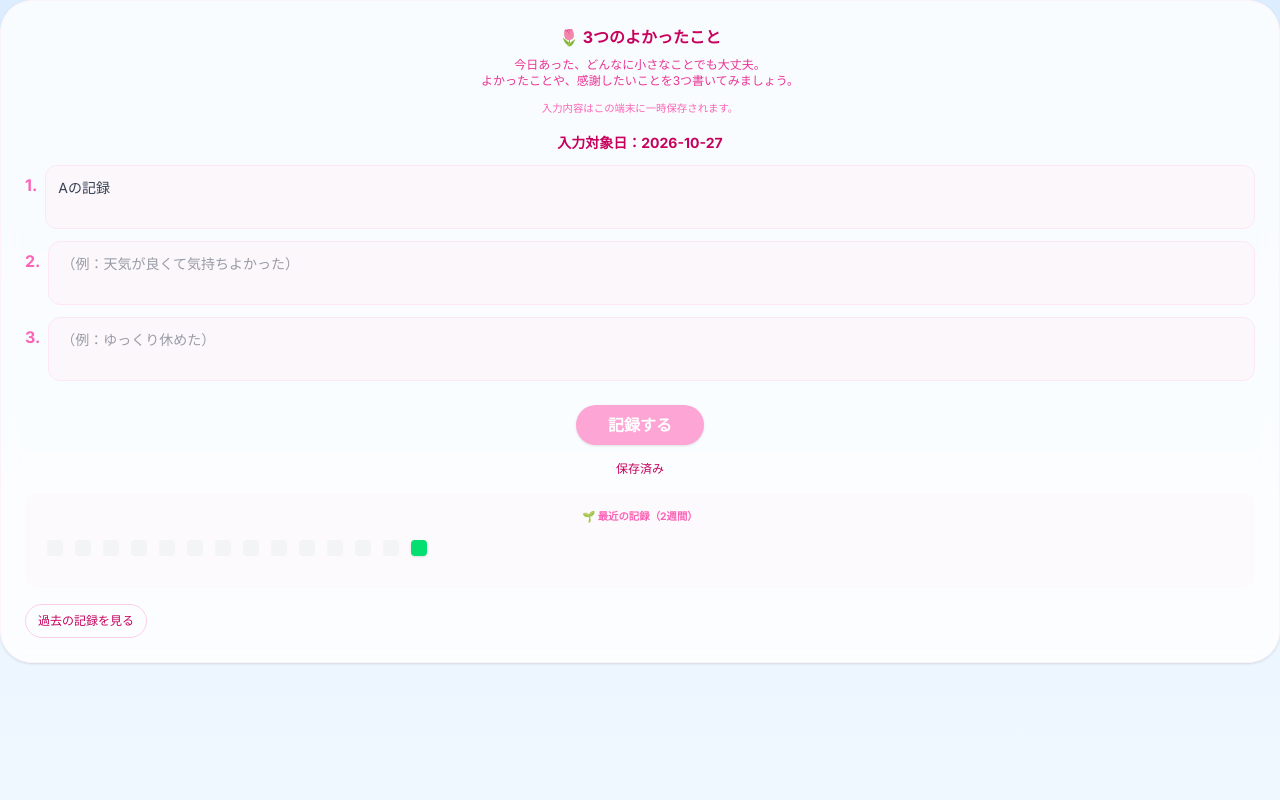
Test case: ThreeGoodThingsCard › 表示中の利用者と現在の認証利用者が異なると削除しない
Step 1. Click the button named "2026-10-27、記録あり、詳細を開く" → {"x": 419, "y": 548}, box x1=407 y1=536 x2=431 y2=560
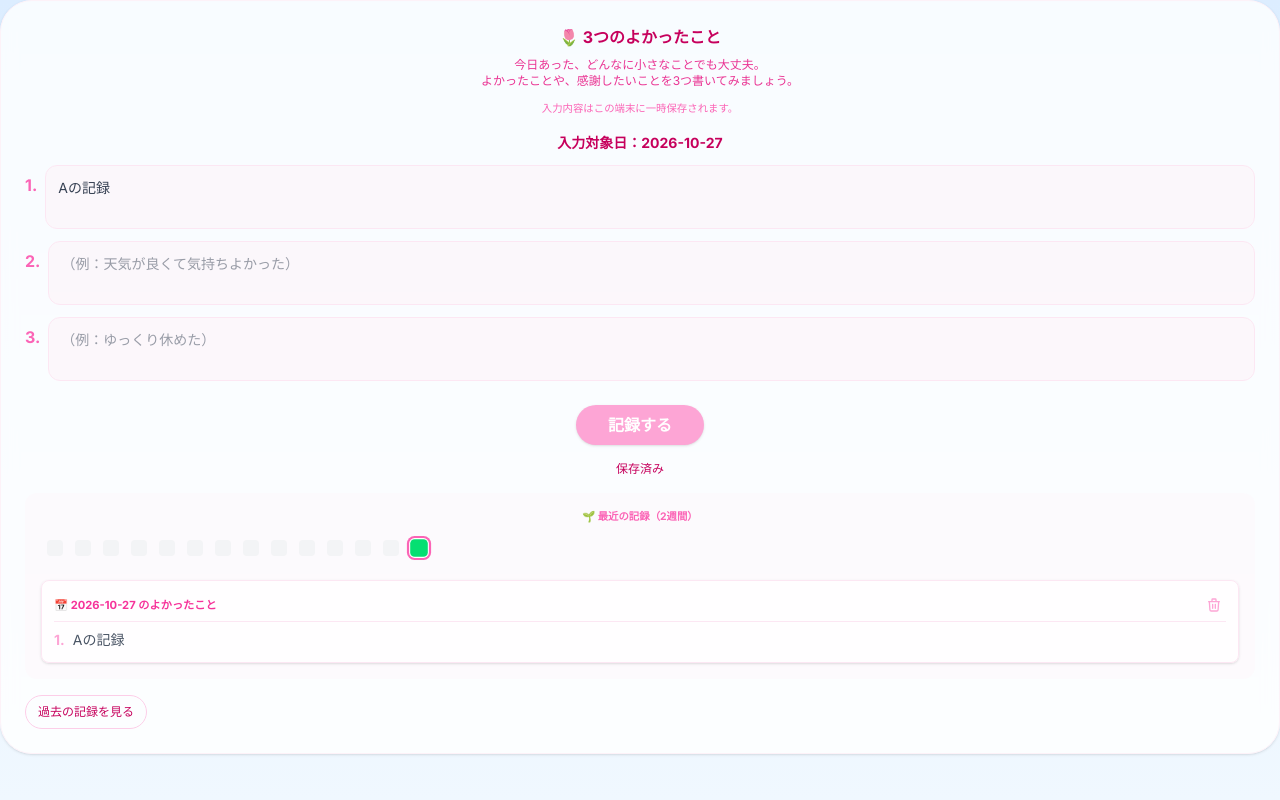
Step 2. Click the button named "2026-10-27 の記録を削除" → {"x": 1214, "y": 605}, box x1=1202 y1=593 x2=1226 y2=617
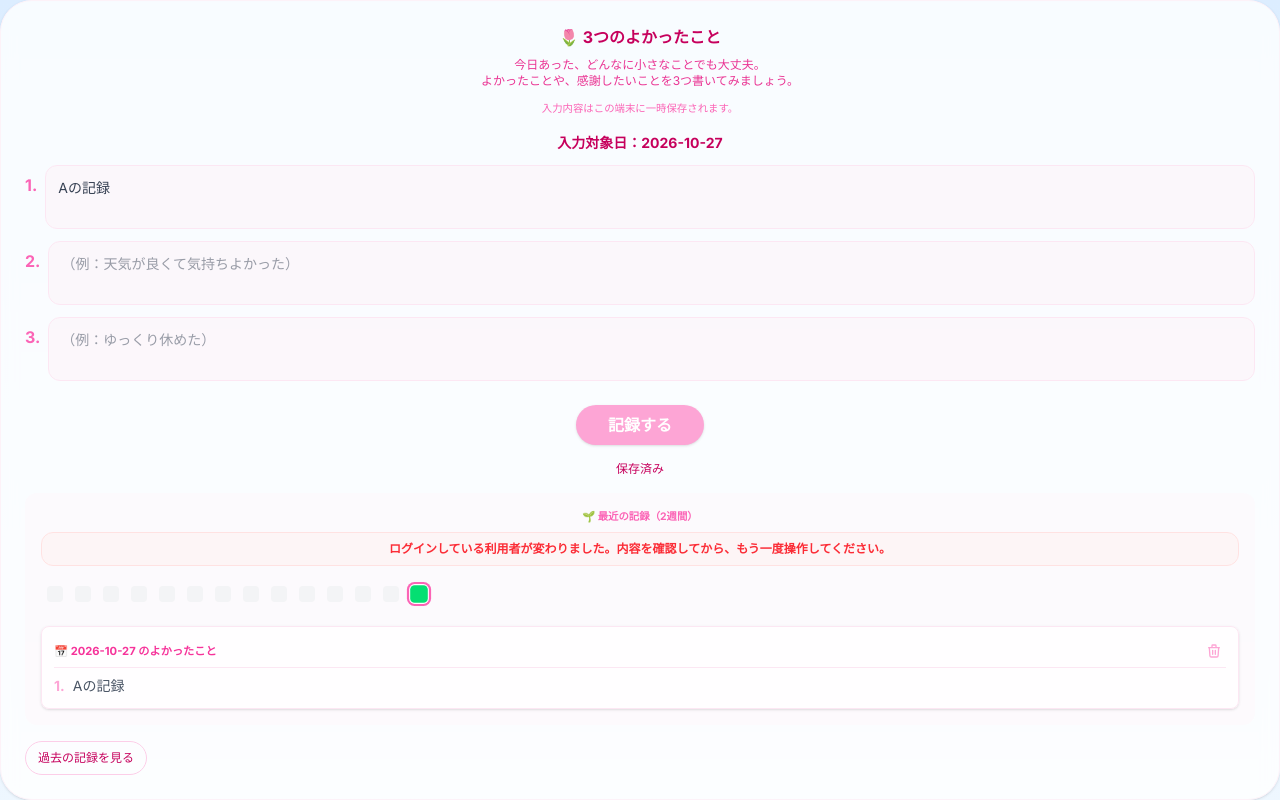
Check: the message "ログインしている利用者が変わりました。内容を確認してから、もう一度操作してください。" is shown, box x1=41 y1=532 x2=1239 y2=566
